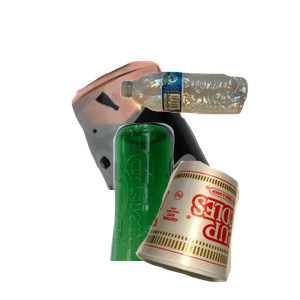glass: (107, 120, 278, 300)
metal: (69, 58, 300, 238)
plastic: (118, 69, 300, 176)
trash: (133, 158, 300, 300)
